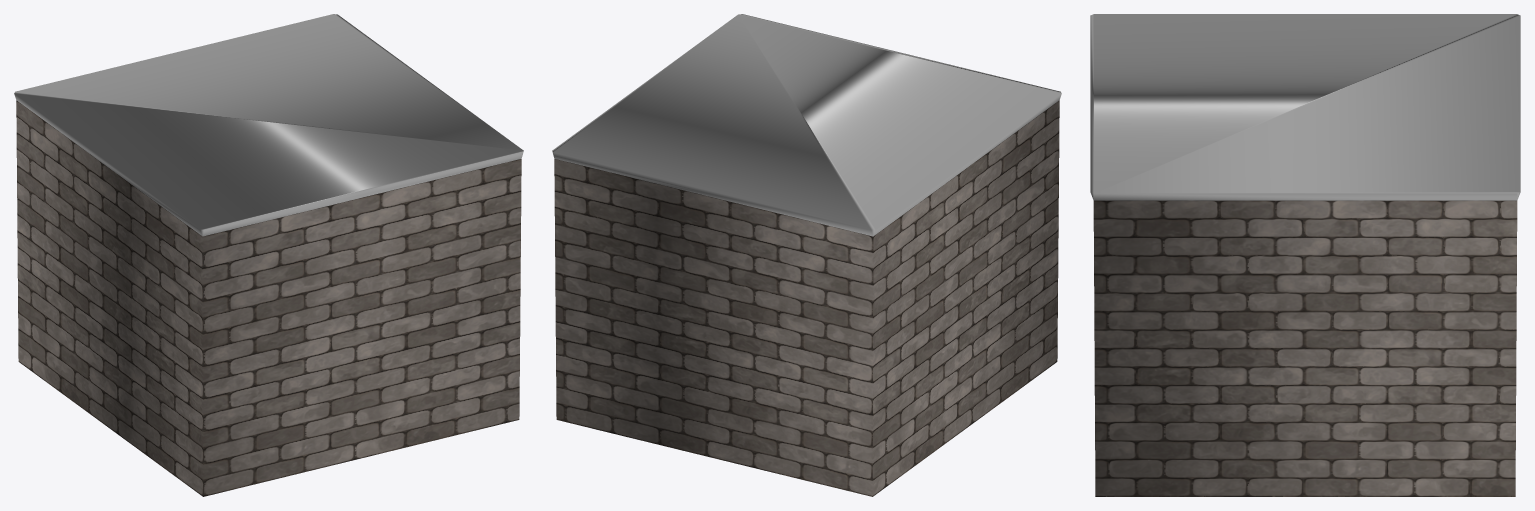
File: StonePlatform_1.fbx
3 renders of one model, left to right at view 1: azimuth 30°, elevation 25°; view 2: azimuth 150°, elevation 25°; view 3: azimuth 270°, elevation 25°, orthographic. The views are drawn at different scales.
Parts seen in each view (by area): view 1: Mesh; view 2: Mesh; view 3: Mesh.
Boxes of the visible parts, x1,y1,x2,y2 form: Mesh: (14, 14, 523, 496); Mesh: (552, 14, 1061, 496); Mesh: (1090, 14, 1520, 496).
Bounding box in the file's own units: 331 × 263 × 335.
